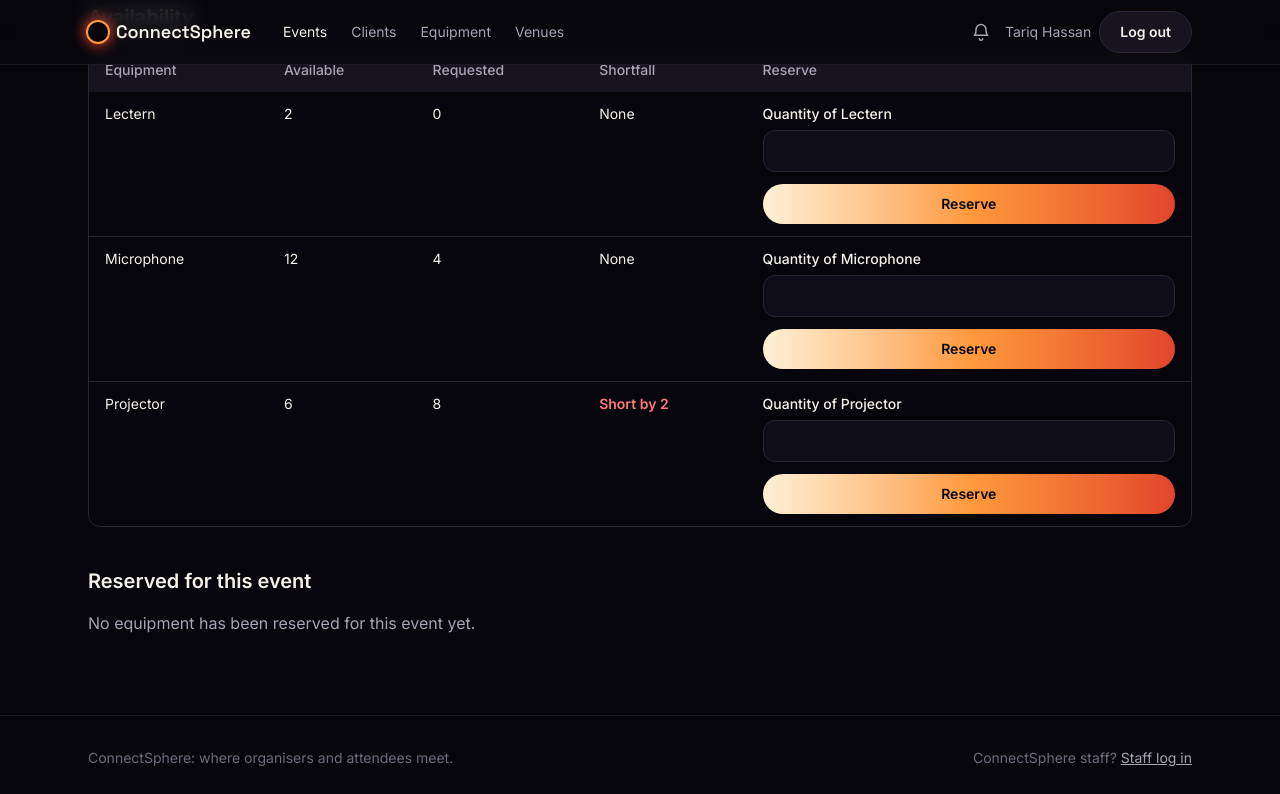
Test: SCRUM-85 Technical Support record a reservation's preparation › shows each reservation as not started, with no notes, until something is recorded
(page scrolled)
In the number field labelled "Quantity of Projector": (969, 441) [762,420,1175,462], type "1"
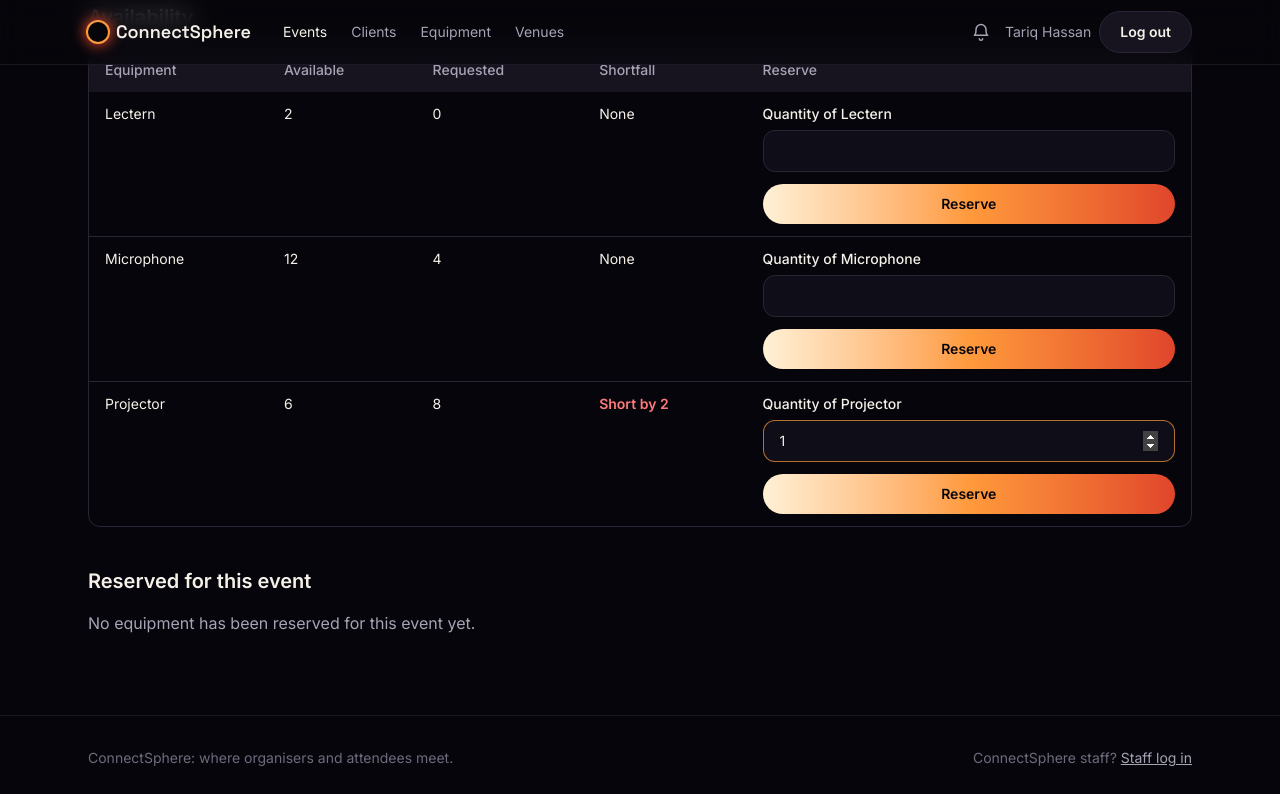
Click the button with aria-label "Reserve Projector": (969, 494) [762,474,1175,514]
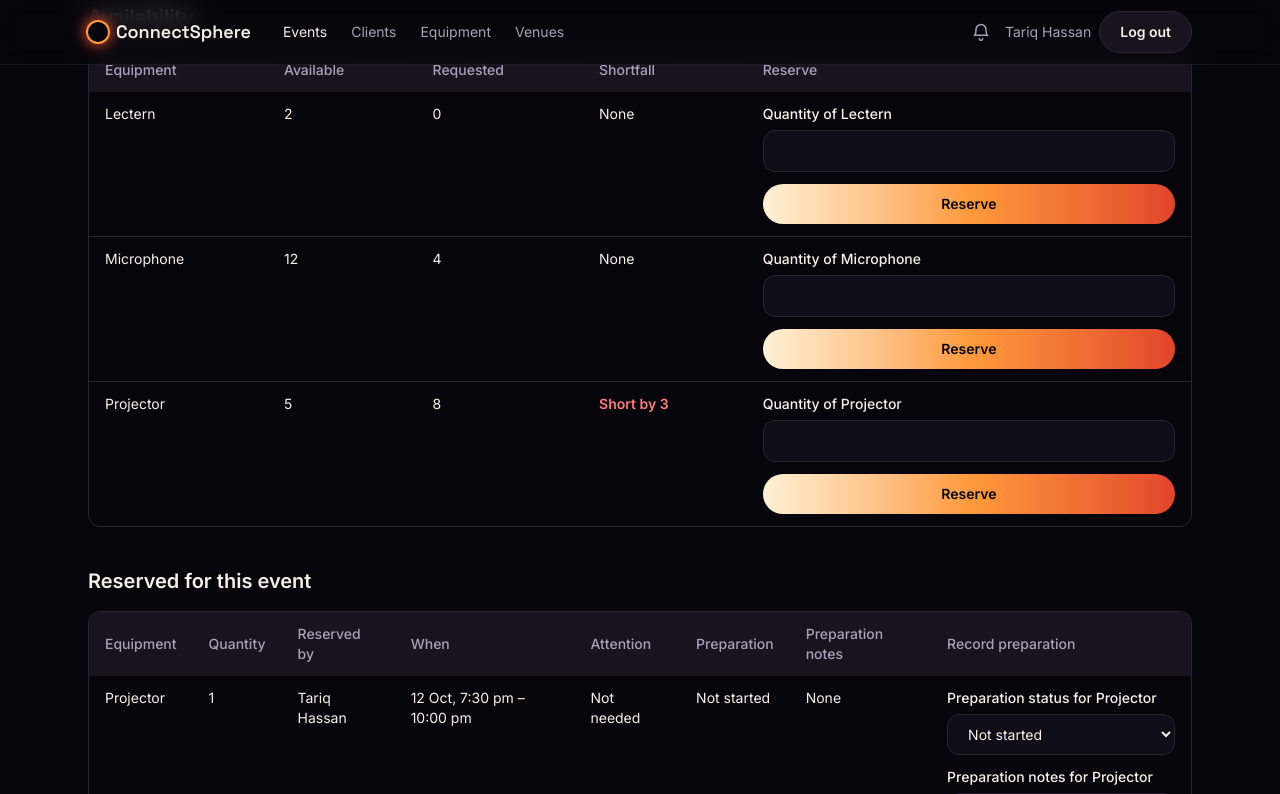
Expected: the dropdown labelled "Preparation status for Projector" shows "Not started", [947,714,1175,755]
